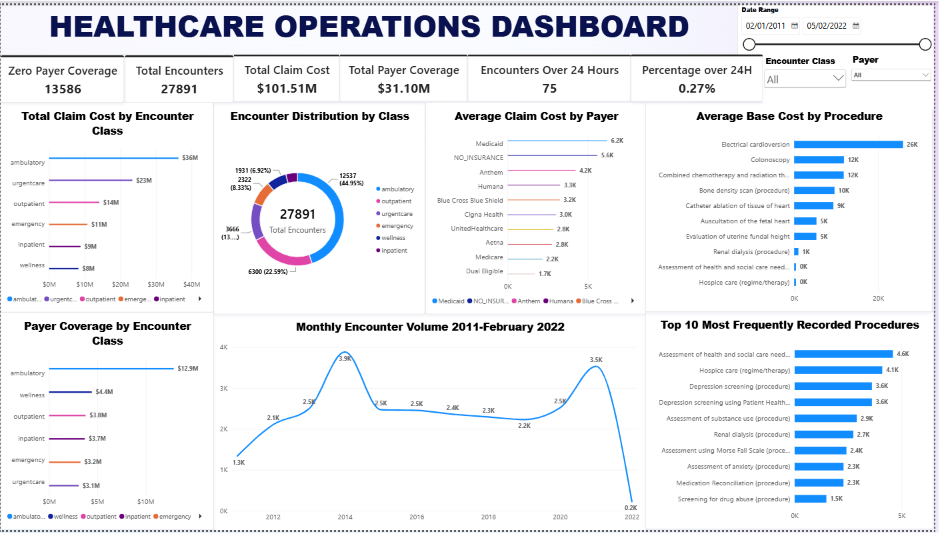

This screenshot's page, from the dashboard's own definition file:
{"tool":"powerbi","page":{"name":"Page 1","canvas":[1920,1080],"ordinal":0},"visuals":[{"type":"lineChart","title":"Monthly Encounter Volume 2011-February 2022","fields":{"Category":["encounters.START.Variation.Date Hierarchy.Year","encounters.START.Variation.Date Hierarchy.Month"],"Y":["encounters.Total Encounters"]},"box":[438.4,633.7,890.4,447.4],"z":4},{"type":"donutChart","title":"Encounter Distribution by Class","fields":{"Category":["encounters.ENCOUNTERCLASS"],"Y":["encounters.Total Encounters"]},"box":[438,198.7,435.9,435.9],"z":5},{"type":"cardVisual","fields":{"Data":["encounters.Total Encounters"]},"box":[254.4,102.2,224.9,97.7],"z":6},{"type":"cardVisual","fields":{"Data":["encounters.Total Claim Cost"]},"box":[479.2,99.9,218,97.7],"z":7},{"type":"cardVisual","fields":{"Data":["encounters.Total Payer Coverage"]},"box":[697.3,99.9,263.5,97.7],"z":8},{"type":"cardVisual","fields":{"Data":["encounters.Encounters Over 24 Hours"]},"box":[960.8,99.9,336.2,97.7],"z":9},{"type":"clusteredBarChart","title":"Total Claim Cost by Encounter Class","fields":{"Category":["encounters.ENCOUNTERCLASS"],"Series":["encounters.ENCOUNTERCLASS"],"Y":["encounters.Total Claim Cost"]},"box":[0,198.7,438,431.9],"z":10},{"type":"clusteredBarChart","title":"Payer Coverage by Encounter Class","fields":{"Category":["encounters.ENCOUNTERCLASS"],"Series":["encounters.ENCOUNTERCLASS"],"Y":["encounters.Total Payer Coverage"]},"box":[0,631.4,438.4,447.4],"z":11},{"type":"clusteredBarChart","title":"Average Claim Cost by Payer","fields":{"Category":["payers.NAME"],"Series":["payers.NAME"],"Y":["encounters.Average Claim Cost"]},"box":[873.9,198.7,454.2,435.9],"z":12},{"type":"cardVisual","fields":{"Data":["encounters.Zero Payer Coverage Encounters"]},"box":[0,102.2,254.4,97.7],"z":13},{"type":"clusteredBarChart","title":"Top 10 Most Frequently Recorded Procedures","fields":{"Category":["procedures.DESCRIPTION"],"Y":["procedures.Total Procedure Records"]},"box":[1328.1,630.6,592.1,448.1],"z":14},{"type":"clusteredBarChart","title":"Average Base Cost by Procedure","fields":{"Category":["procedures.DESCRIPTION"],"Y":["Avg(procedures.BASE_COST)"]},"box":[1328.7,199.9,590.5,431.5],"z":15},{"type":"slicer","fields":{"Values":["encounters.START"]},"box":[1517.2,0,402,102.2],"z":16},{"type":"slicer","fields":{"Values":["encounters.ENCOUNTERCLASS"]},"box":[1566.5,102.9,179.1,100.9],"z":17},{"type":"slicer","fields":{"Values":["payers.NAME"]},"box":[1745.6,98.8,175,115.3],"z":18},{"type":"textbox","box":[0,0,1517.2,99.9],"z":21},{"type":"cardVisual","fields":{"Data":["encounters.Percentage over 24 Hours"]},"box":[1296.9,99.9,272.6,97.7],"z":22}]}

Visuals, with their boxes in screenshot pixels (x1, y1, x2, y2), scaled from the page's 1920x1080 canvas onto the 939x533 screenshot:
"Monthly Encounter Volume 2011-February 2022" lineChart: box(214, 313, 650, 532)
"Encounter Distribution by Class" donutChart: box(214, 98, 427, 313)
cardVisual - encounters.Total Encounters: box(124, 50, 234, 99)
cardVisual - encounters.Total Claim Cost: box(234, 49, 341, 98)
cardVisual - encounters.Total Payer Coverage: box(341, 49, 470, 98)
cardVisual - encounters.Encounters Over 24 Hours: box(470, 49, 634, 98)
"Total Claim Cost by Encounter Class" clusteredBarChart: box(0, 98, 214, 311)
"Payer Coverage by Encounter Class" clusteredBarChart: box(0, 312, 214, 532)
"Average Claim Cost by Payer" clusteredBarChart: box(427, 98, 650, 313)
cardVisual - encounters.Zero Payer Coverage Encounters: box(0, 50, 124, 99)
"Top 10 Most Frequently Recorded Procedures" clusteredBarChart: box(650, 311, 938, 532)
"Average Base Cost by Procedure" clusteredBarChart: box(650, 99, 938, 312)
slicer - encounters.START: box(742, 0, 938, 50)
slicer - encounters.ENCOUNTERCLASS: box(766, 51, 854, 101)
slicer - payers.NAME: box(854, 49, 938, 106)
textbox: box(0, 0, 742, 49)
cardVisual - encounters.Percentage over 24 Hours: box(634, 49, 768, 98)
